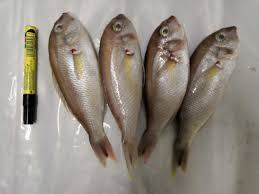Ikan Kerisi: (49, 12, 115, 166), (190, 20, 254, 172), (101, 4, 153, 177), (141, 10, 192, 171)
